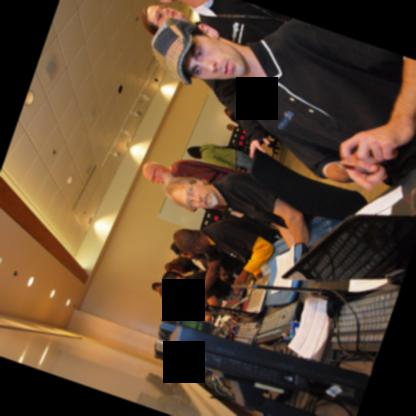handbag: (215, 143, 250, 156)
